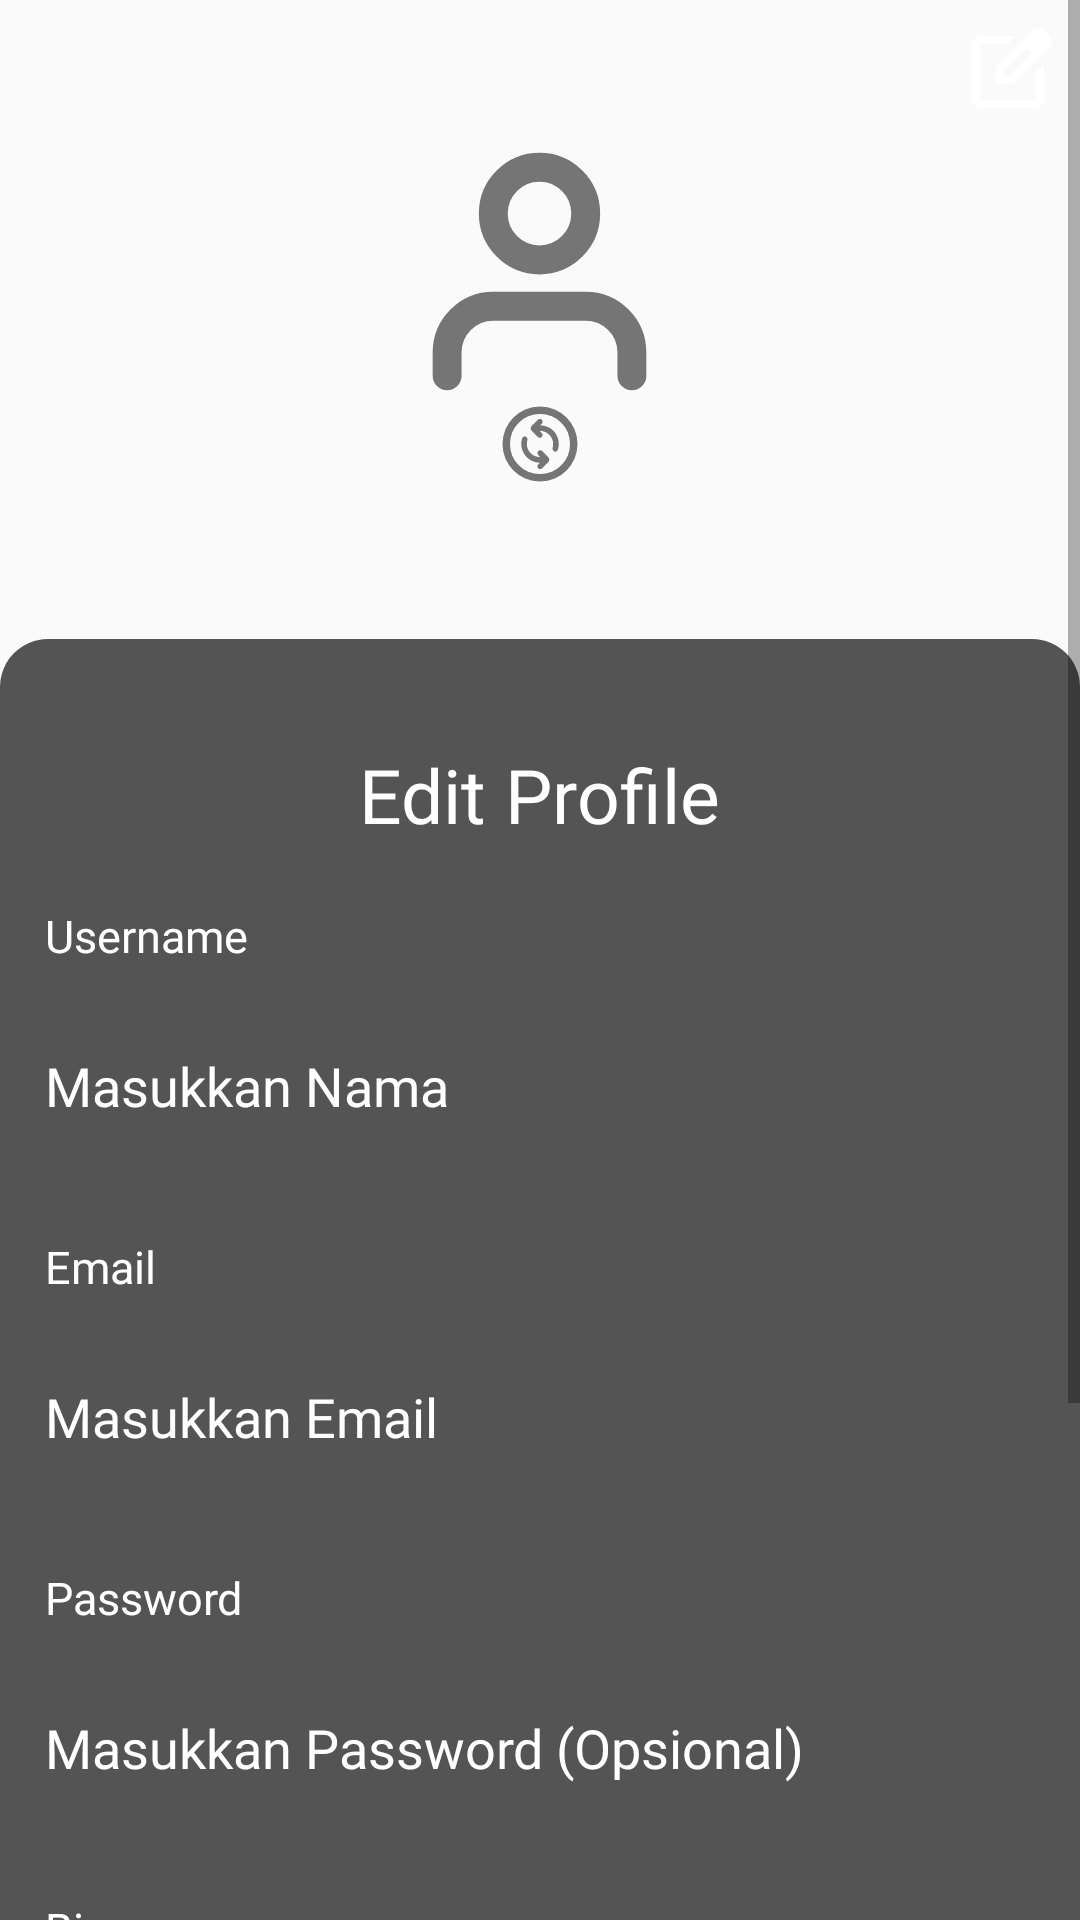

Point at icon controls on the screen. Image size 1080×1920, points as (x=x, y=y).
change: (x=540, y=444)
profile: (x=539, y=271)
